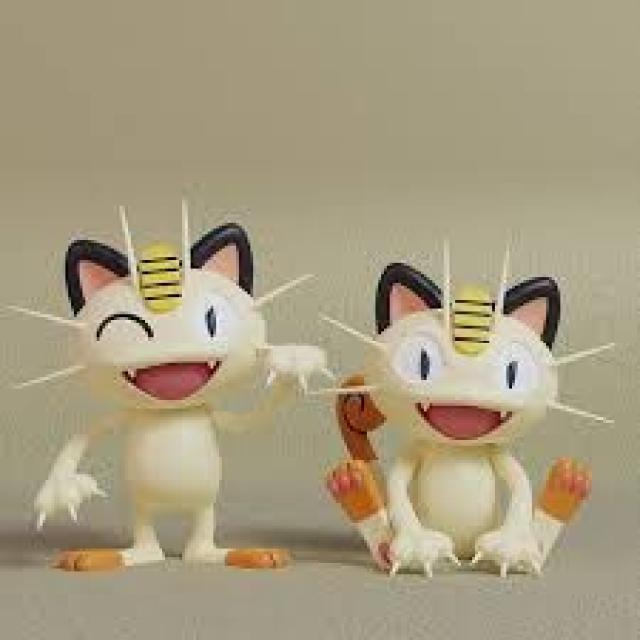Meowth: (65, 231, 274, 575), (358, 262, 564, 574)
